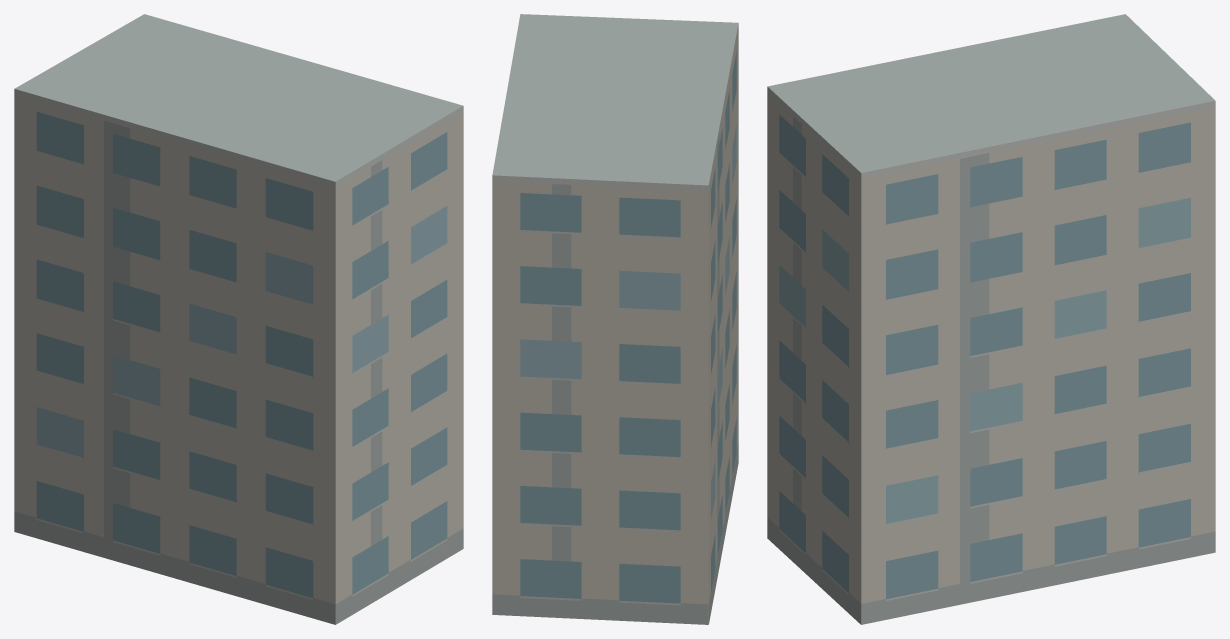
Rendered from survey-upis-32971887.glb.
3 renders of one model, left to right at view 1: azimuth 30°, elevation 25°; view 2: azimuth 150°, elevation 25°; view 3: azimuth 270°, elevation 25°, orthographic. The views are drawn at different scales.
Parts seen in each view (by area): view 1: survey-upis-32971887.tmp; view 2: survey-upis-32971887.tmp; view 3: survey-upis-32971887.tmp.
Part boxes in pixels (bbox=[...]): survey-upis-32971887.tmp: bbox=[14, 14, 463, 624]; survey-upis-32971887.tmp: bbox=[492, 14, 738, 624]; survey-upis-32971887.tmp: bbox=[767, 14, 1215, 624].
Size of the model in its own units: 13.82 by 18.3 by 16.46.
